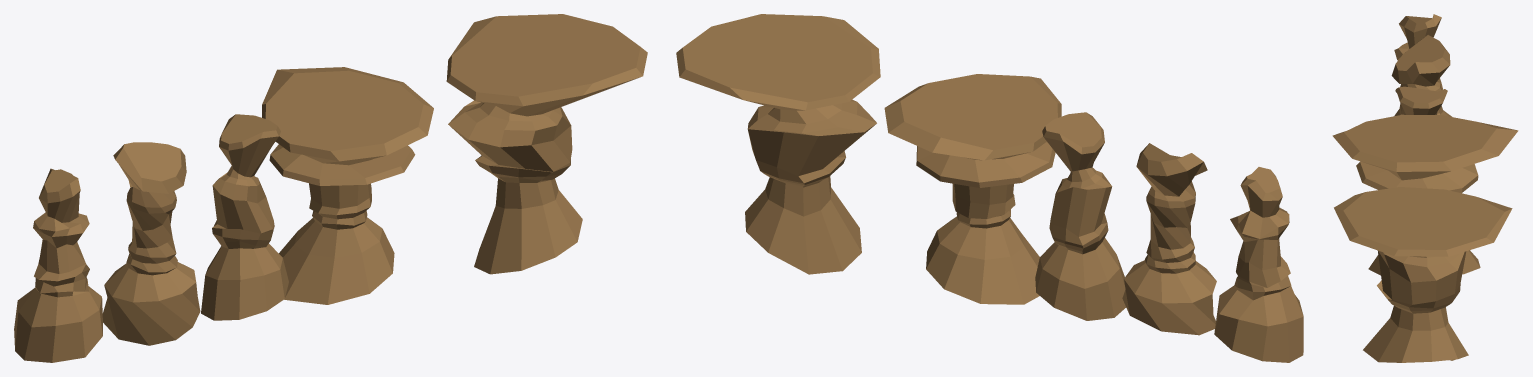
Rendered from PillarSet_01.fbx.
3 renders of one model, left to right at view 1: azimuth 30°, elevation 25°; view 2: azimuth 150°, elevation 25°; view 3: azimuth 270°, elevation 25°, orthographic. The views are drawn at different scales.
Parts seen in each view (by area): view 1: Pillar_05, Pillar_04, Pillar_02, Pillar_03, Pillar_01; view 2: Pillar_05, Pillar_04, Pillar_03, Pillar_02, Pillar_01; view 3: Pillar_05, Pillar_04, Pillar_02, Pillar_01, Pillar_03.
Part boxes in pixels (bbox=[...]): Pillar_05: bbox=[446, 14, 647, 274]; Pillar_04: bbox=[262, 67, 433, 304]; Pillar_02: bbox=[102, 142, 200, 345]; Pillar_03: bbox=[201, 114, 288, 320]; Pillar_01: bbox=[14, 168, 102, 362]; Pillar_05: bbox=[676, 14, 880, 274]; Pillar_04: bbox=[884, 74, 1061, 304]; Pillar_03: bbox=[1035, 112, 1126, 320]; Pillar_02: bbox=[1122, 143, 1216, 335]; Pillar_01: bbox=[1214, 167, 1303, 362]; Pillar_05: bbox=[1334, 187, 1512, 362]; Pillar_04: bbox=[1332, 115, 1518, 275]; Pillar_02: bbox=[1391, 35, 1450, 114]; Pillar_01: bbox=[1394, 14, 1451, 116]; Pillar_03: bbox=[1396, 86, 1447, 114].
Size of the model in its own units: 12700 by 4063 by 3940.
